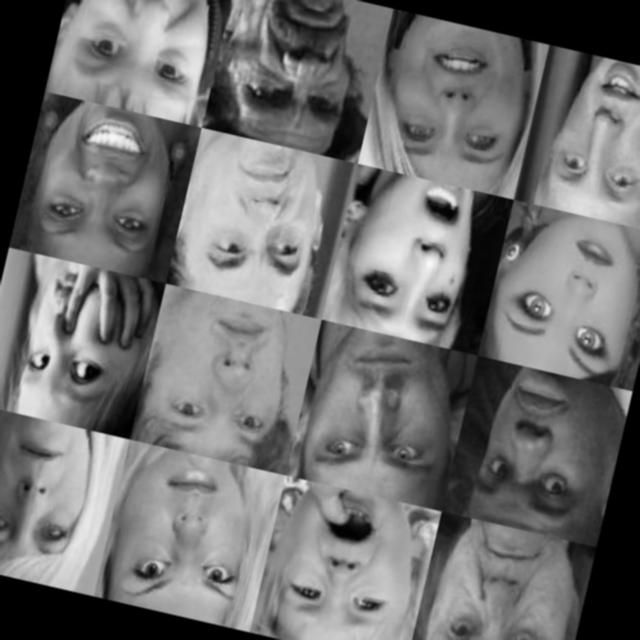angry: (277, 492, 418, 640), (316, 342, 458, 482), (436, 534, 576, 640)
fear: (340, 176, 503, 332)
happy: (182, 130, 336, 302), (0, 259, 152, 422), (380, 24, 526, 180), (108, 466, 259, 610), (51, 0, 221, 115)
neutral: (492, 206, 640, 377), (475, 378, 618, 534), (159, 298, 289, 454), (0, 407, 111, 572)
sad: (14, 94, 192, 274), (228, 0, 380, 142), (529, 49, 640, 221)
